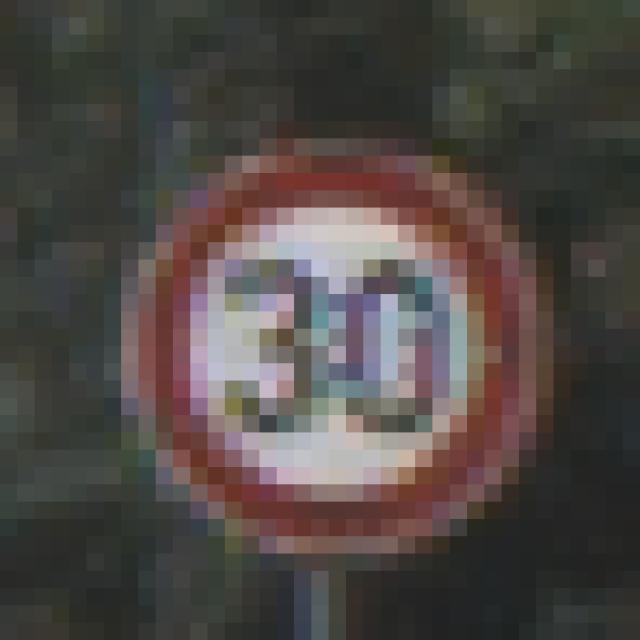Speed Limit -30-: (78, 95, 528, 545)
